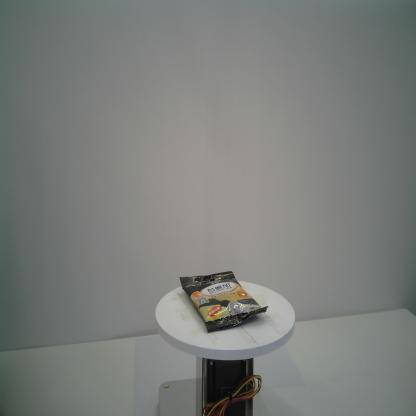Instant Drink: (179, 270, 269, 334)
